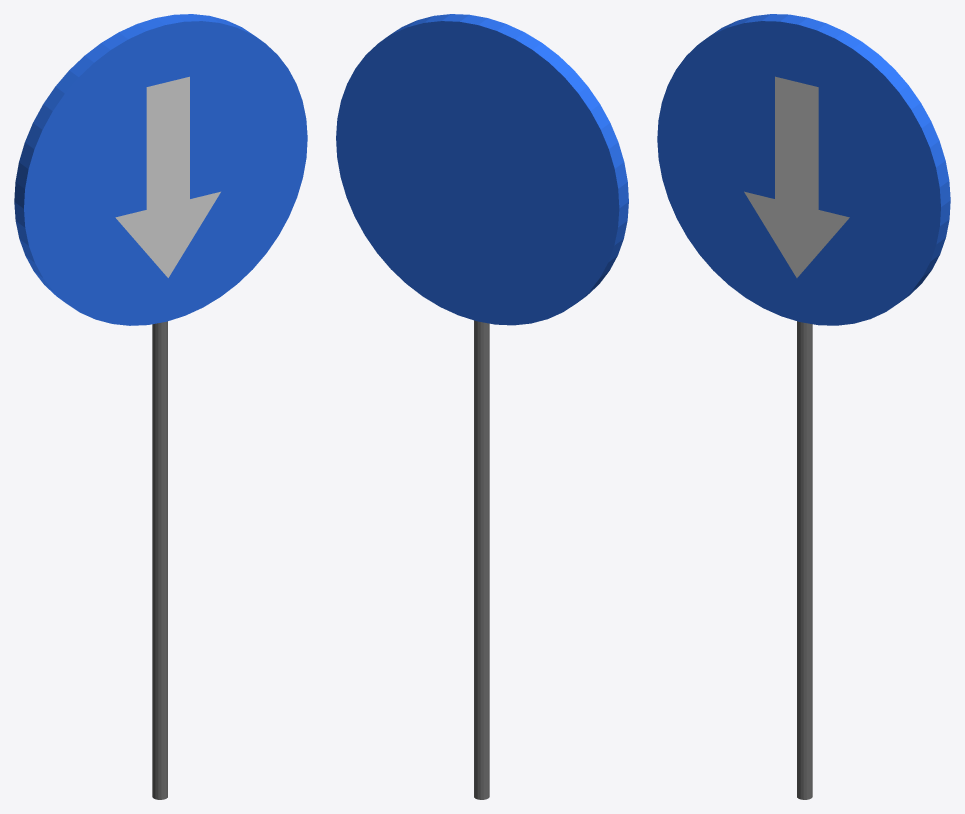
File: signs circle blue white arrow down.fbx
3 renders of one model, left to right at view 1: azimuth 30°, elevation 25°; view 2: azimuth 150°, elevation 25°; view 3: azimuth 330°, elevation 25°, orthographic.
Parts seen in each view (by area): view 1: Cube.018; view 2: Cube.018; view 3: Cube.018.
Boxes of the visible parts, x1=… form: Cube.018: x1=14, y1=14, x2=307, y2=799; Cube.018: x1=336, y1=14, x2=628, y2=799; Cube.018: x1=657, y1=14, x2=950, y2=799.
Bounding box in the file's own units: 172 × 12.63 × 450.
